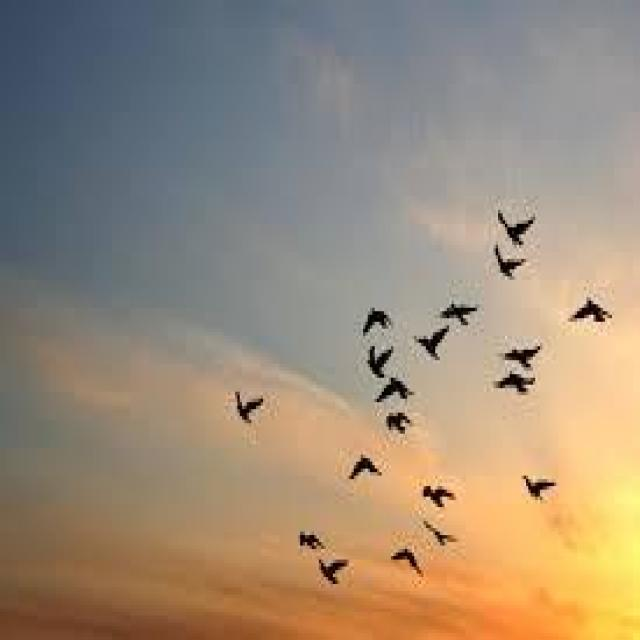bird: (496, 206, 535, 252), (232, 385, 268, 428), (568, 298, 614, 330), (490, 244, 527, 282), (496, 368, 538, 400), (414, 326, 452, 360), (522, 469, 557, 505), (502, 339, 543, 369), (393, 547, 426, 584), (361, 302, 396, 336), (349, 451, 383, 484), (316, 557, 352, 588), (360, 305, 394, 336), (440, 300, 480, 326), (364, 346, 397, 377), (424, 482, 459, 511), (423, 521, 458, 549), (374, 380, 416, 403), (386, 408, 414, 438), (298, 526, 326, 555)
